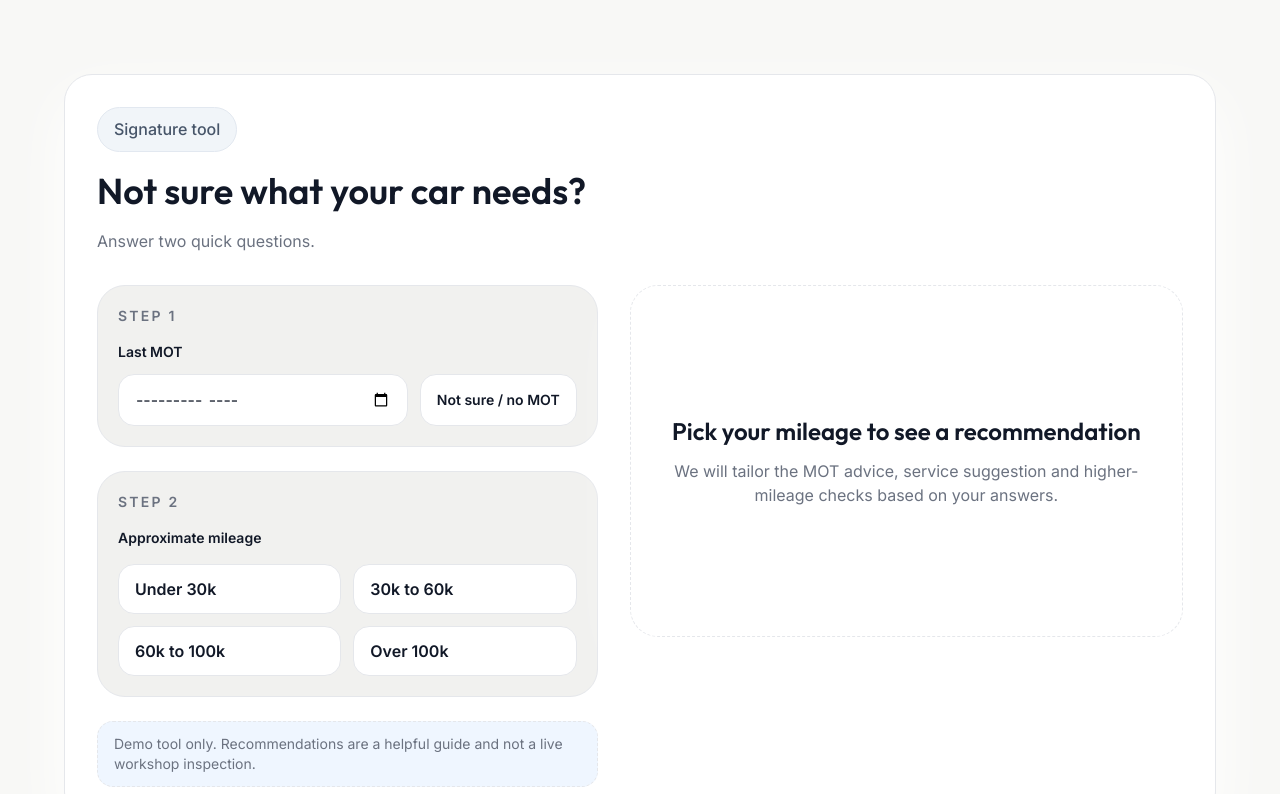
Scenario: service finder › shows recommendation panel based on MOT date and mileage selection
This screenshot has width=1280, height=794.
Type "2025-02" into the field labelled "Last MOT".
click(263, 400); type("2025-02")  # box [118,374,408,426]
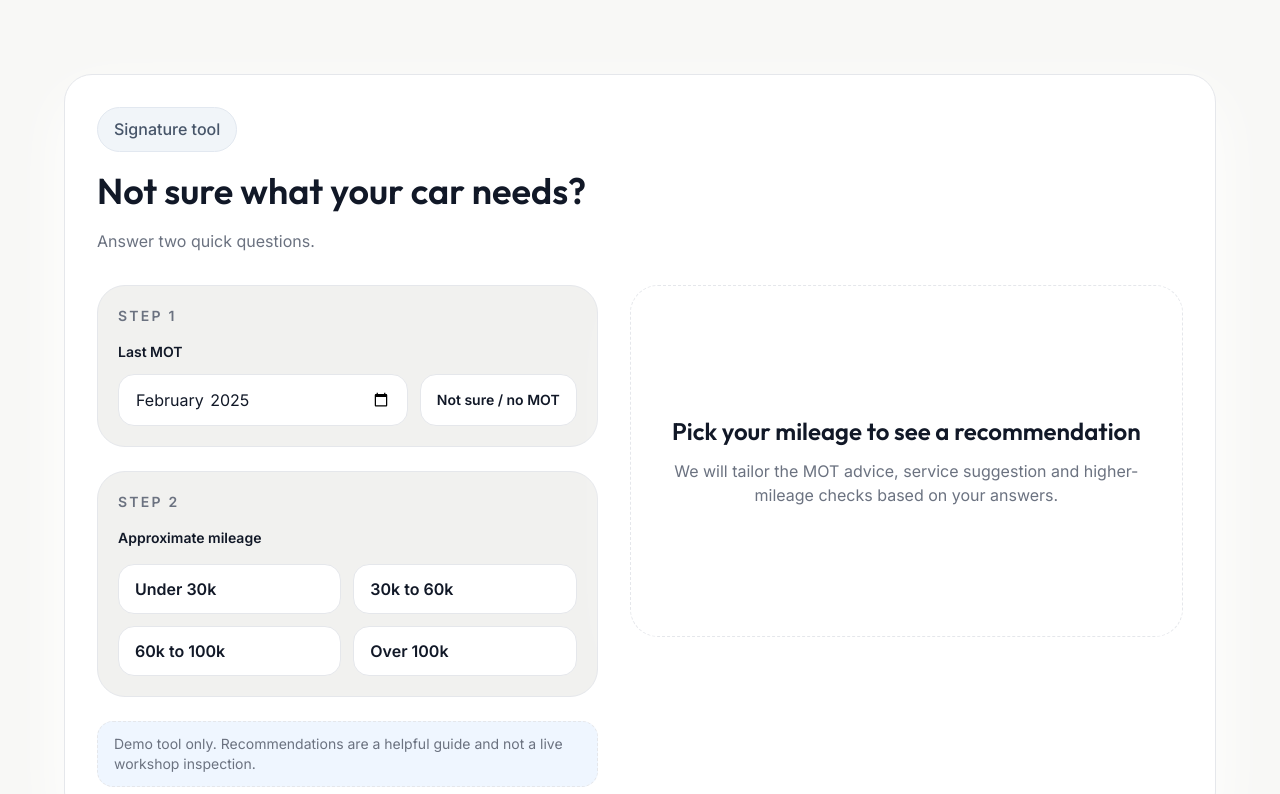
Click the button "Over 100k".
click(465, 651)  # box [353,626,577,676]
(page scrolled)
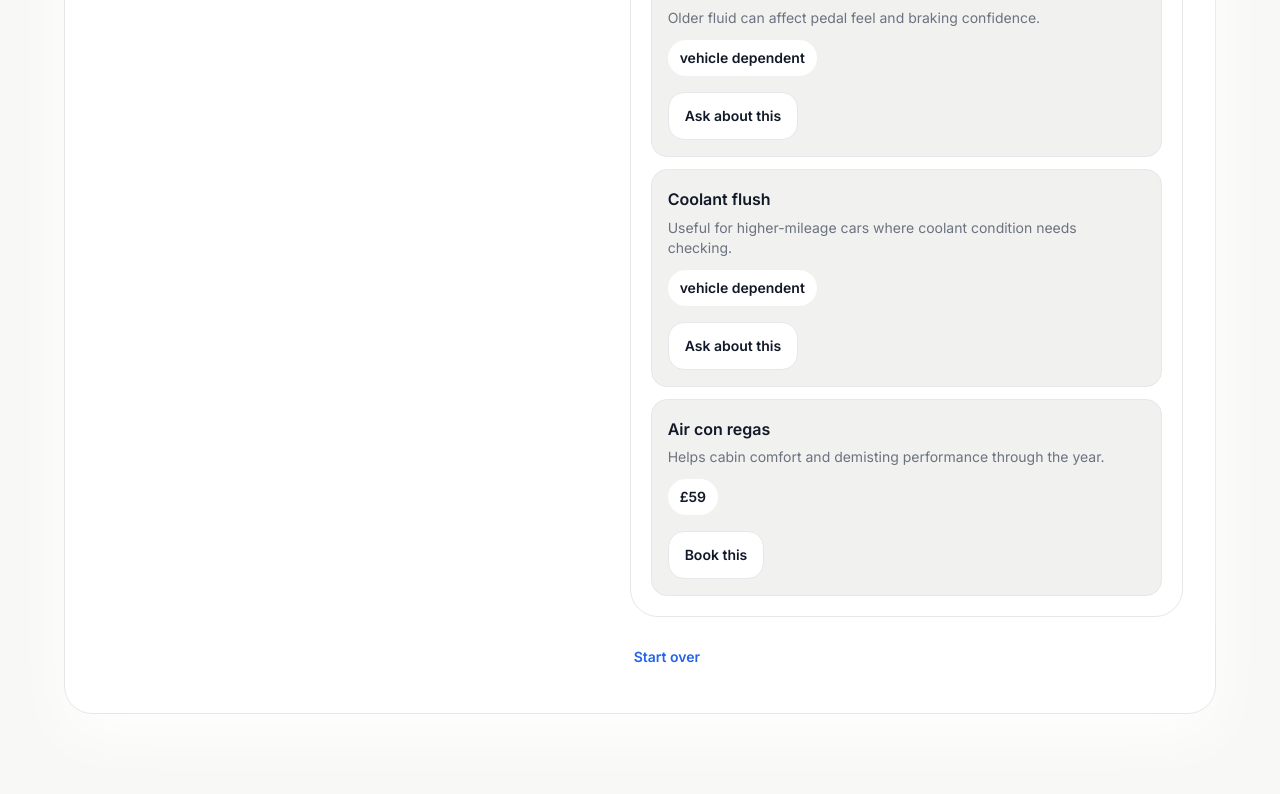
Expected: the text "Air con regas" is shown, [668,419,770,439]
